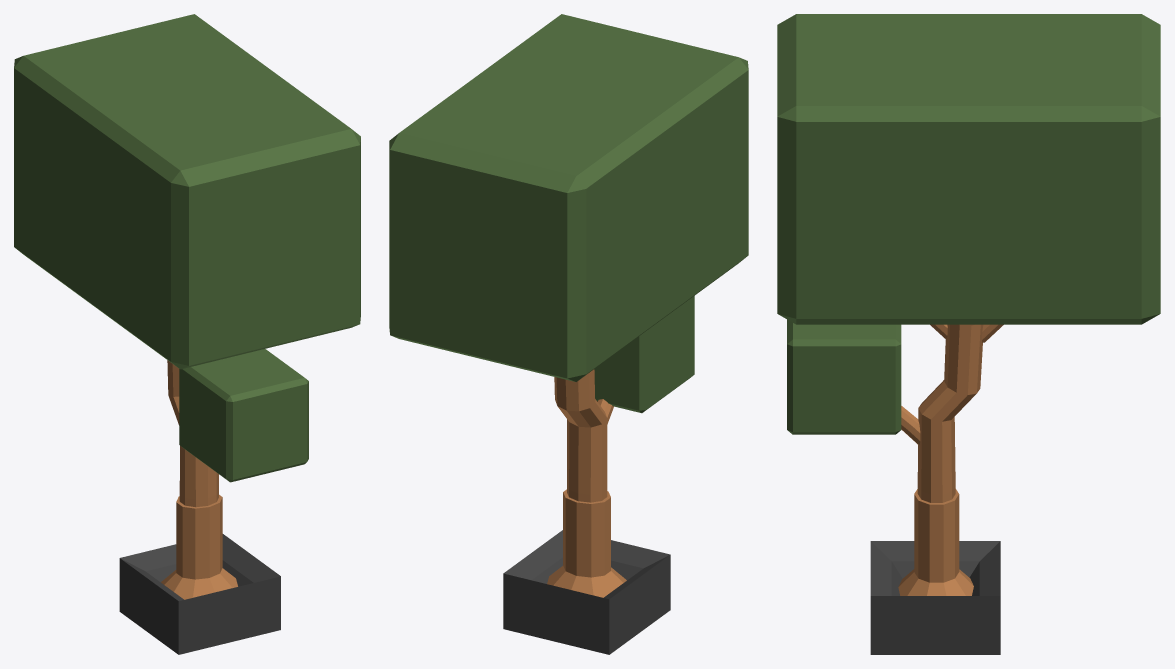
The model's file is tree2.fbx.
3 renders of one model, left to right at view 1: azimuth 30°, elevation 25°; view 2: azimuth 150°, elevation 25°; view 3: azimuth 270°, elevation 25°, orthographic. The views are drawn at different scales.
Parts seen in each view (by area): view 1: Cube.002, Cube.003, Cube.001, Cylinder.004; view 2: Cube.002, Cube.001, Cylinder.004, Cube.003; view 3: Cube.002, Cube.003, Cube.001, Cylinder.004.
Part boxes in pixels (x1,y1,x2,y2): Cube.002: (14,14,360,369); Cube.003: (179,349,308,482); Cube.001: (119,534,280,654); Cylinder.004: (161,360,237,599); Cube.002: (389,14,748,381); Cube.001: (503,530,670,654); Cylinder.004: (547,369,626,597); Cube.003: (594,296,694,413); Cube.002: (777,14,1160,324); Cube.003: (787,319,901,434); Cube.001: (870,541,1000,654); Cylinder.004: (898,324,983,595).
Bounding box in the file's own units: 642 × 1669 × 1020.
